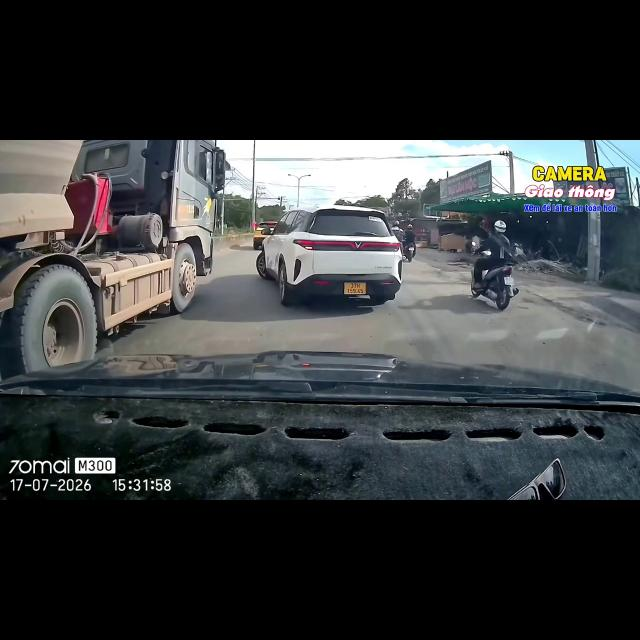car: (256, 205, 402, 305), (253, 221, 276, 249)
motorcycle: (471, 261, 518, 309), (403, 243, 415, 262)
truck: (0, 140, 228, 378)
